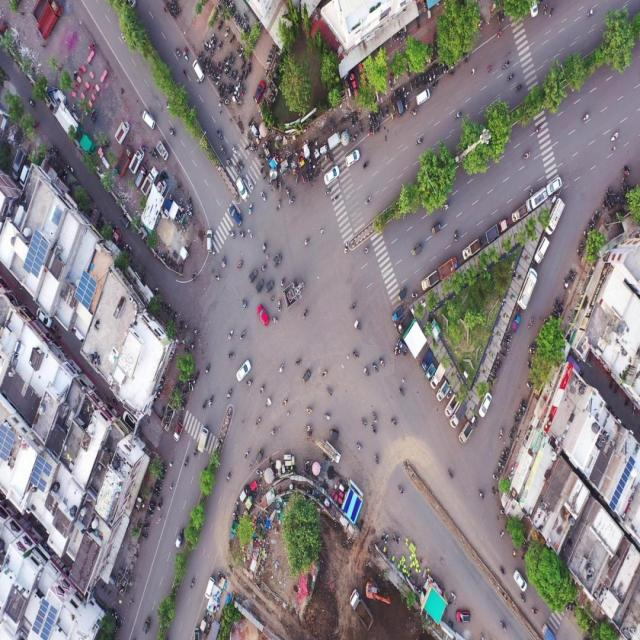3W: (141, 615, 151, 637), (411, 243, 424, 258), (247, 267, 257, 285), (328, 426, 339, 442), (430, 221, 442, 235), (273, 250, 282, 268), (254, 280, 264, 296), (300, 368, 310, 383), (398, 287, 407, 303), (256, 448, 264, 463), (265, 281, 274, 293)
Cars: (255, 302, 271, 327), (534, 236, 548, 263), (513, 569, 528, 594), (236, 359, 252, 382), (479, 391, 492, 418), (228, 205, 244, 226), (252, 79, 265, 104), (324, 165, 340, 185), (546, 177, 562, 196), (141, 109, 156, 129), (192, 59, 204, 82), (415, 88, 431, 105), (346, 148, 360, 167), (237, 177, 247, 202), (205, 227, 214, 254), (393, 88, 402, 115), (205, 574, 215, 598), (455, 610, 471, 624)
LCV: (518, 268, 538, 312), (545, 198, 566, 236), (449, 401, 467, 430), (527, 188, 546, 214), (142, 167, 158, 196), (438, 257, 458, 280), (421, 270, 439, 294), (431, 362, 445, 391), (462, 238, 478, 262), (130, 147, 144, 174), (458, 422, 474, 444), (115, 120, 130, 143), (510, 204, 527, 224), (198, 426, 209, 456), (436, 380, 449, 402), (328, 131, 342, 150), (135, 165, 146, 188), (156, 141, 168, 161), (421, 350, 433, 370), (390, 306, 403, 324), (173, 421, 183, 442), (510, 316, 520, 334), (398, 339, 407, 356)
M2W: (608, 130, 619, 145), (318, 368, 328, 381), (498, 620, 508, 633), (263, 396, 273, 409), (378, 355, 386, 371), (226, 326, 234, 342), (277, 361, 285, 377), (193, 370, 200, 388), (276, 298, 282, 318), (300, 308, 310, 320), (522, 151, 532, 163), (226, 467, 232, 486), (239, 326, 246, 342), (207, 392, 214, 408), (534, 124, 542, 138), (353, 318, 361, 332), (396, 486, 406, 497), (258, 264, 268, 275), (348, 302, 357, 314), (389, 417, 398, 429), (240, 299, 249, 311), (225, 386, 233, 399), (550, 308, 560, 318), (371, 363, 380, 374), (447, 618, 456, 629), (502, 60, 511, 71), (287, 195, 296, 206), (220, 255, 227, 269), (551, 296, 558, 310), (352, 348, 360, 360), (326, 386, 334, 398), (281, 397, 289, 409), (246, 376, 254, 388), (360, 417, 368, 429), (362, 245, 370, 257), (586, 7, 594, 19), (303, 235, 310, 248), (205, 363, 212, 376), (373, 453, 380, 466), (356, 441, 363, 454), (452, 229, 459, 242), (498, 428, 505, 441), (294, 357, 303, 367), (498, 566, 507, 576), (440, 203, 449, 213), (364, 194, 373, 204), (531, 606, 539, 617), (362, 159, 370, 170), (261, 192, 268, 204), (280, 275, 286, 289), (363, 367, 370, 379), (228, 350, 235, 362), (244, 448, 250, 462), (528, 316, 534, 330), (343, 240, 349, 254), (189, 577, 196, 589), (183, 454, 189, 468), (595, 210, 601, 224), (240, 60, 247, 72), (324, 188, 333, 197), (581, 113, 590, 122), (272, 316, 280, 326), (232, 164, 240, 174), (228, 229, 236, 239), (491, 472, 499, 482), (140, 533, 150, 541), (479, 234, 485, 247), (175, 46, 181, 59), (271, 425, 277, 438), (89, 108, 95, 121), (372, 413, 379, 424), (225, 157, 232, 168), (447, 468, 454, 479), (92, 112, 99, 123), (202, 396, 207, 411), (158, 496, 163, 511), (398, 386, 404, 398), (514, 83, 522, 92), (416, 137, 424, 146), (262, 171, 268, 183), (182, 49, 188, 61), (169, 127, 175, 139), (306, 404, 312, 416), (508, 432, 514, 444), (217, 19, 223, 31), (246, 62, 252, 74), (519, 592, 526, 602), (216, 130, 223, 140), (231, 145, 238, 155), (305, 423, 312, 433), (409, 79, 414, 93), (200, 58, 207, 68), (260, 384, 266, 395), (247, 116, 253, 127), (224, 27, 230, 38), (248, 201, 253, 214), (262, 241, 267, 254), (583, 229, 588, 242), (410, 291, 418, 299), (454, 110, 462, 118), (497, 462, 505, 470), (152, 490, 160, 498), (244, 143, 251, 152), (324, 412, 331, 421), (512, 417, 519, 426), (254, 417, 260, 427), (248, 180, 254, 190), (220, 145, 226, 155), (238, 159, 244, 169), (479, 491, 485, 501), (193, 446, 198, 458), (388, 79, 393, 91), (359, 124, 365, 134), (215, 76, 221, 86), (331, 195, 339, 202), (238, 230, 245, 238), (495, 356, 502, 364), (567, 274, 574, 282), (568, 269, 576, 276), (589, 218, 593, 232), (448, 70, 455, 78), (353, 111, 357, 125), (295, 172, 299, 186), (257, 153, 265, 160), (216, 5, 224, 12), (224, 98, 232, 105), (142, 524, 150, 531), (259, 163, 264, 174), (238, 258, 243, 269), (389, 95, 394, 106), (206, 57, 211, 68), (432, 80, 438, 89), (246, 132, 252, 141), (576, 247, 580, 260), (592, 214, 596, 227), (308, 162, 312, 175), (306, 172, 310, 185), (278, 178, 282, 191), (229, 34, 234, 44), (221, 57, 226, 67), (217, 82, 222, 92), (149, 500, 156, 507), (451, 592, 457, 600), (508, 72, 514, 80), (148, 150, 154, 158), (526, 382, 532, 390), (501, 346, 509, 352), (506, 330, 512, 338), (558, 300, 562, 312), (442, 62, 446, 74), (384, 104, 388, 116), (371, 125, 375, 137), (368, 113, 372, 125), (301, 172, 305, 184), (210, 32, 214, 44), (221, 83, 225, 95), (515, 411, 520, 420), (353, 132, 358, 141), (377, 105, 380, 120), (198, 51, 203, 60), (228, 71, 233, 80), (428, 72, 432, 83), (402, 85, 406, 96), (426, 75, 430, 86), (218, 40, 222, 51), (239, 46, 243, 57), (216, 61, 220, 72), (219, 65, 223, 76), (240, 85, 244, 96), (520, 404, 526, 411), (497, 468, 503, 475), (499, 352, 505, 359), (504, 336, 510, 343), (432, 68, 436, 78), (404, 100, 408, 110), (380, 109, 384, 119), (350, 118, 355, 126), (268, 177, 272, 187), (231, 56, 235, 66), (228, 51, 232, 61), (210, 47, 214, 57), (436, 66, 439, 79), (418, 75, 421, 88), (510, 428, 516, 434), (414, 78, 417, 90), (422, 75, 425, 87), (377, 121, 380, 133), (244, 70, 248, 79), (147, 511, 153, 517), (237, 77, 240, 88), (240, 72, 244, 80), (502, 451, 508, 456), (501, 10, 504, 20), (372, 114, 375, 124), (202, 46, 208, 51), (234, 69, 237, 79), (147, 506, 153, 511), (493, 365, 500, 369), (205, 42, 212, 46), (497, 14, 499, 26), (440, 64, 442, 74), (227, 84, 230, 90)
Truck: (350, 590, 372, 631), (37, 1, 59, 39), (115, 144, 134, 177)
